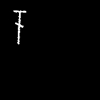double_crochet: (14, 11, 25, 43)
